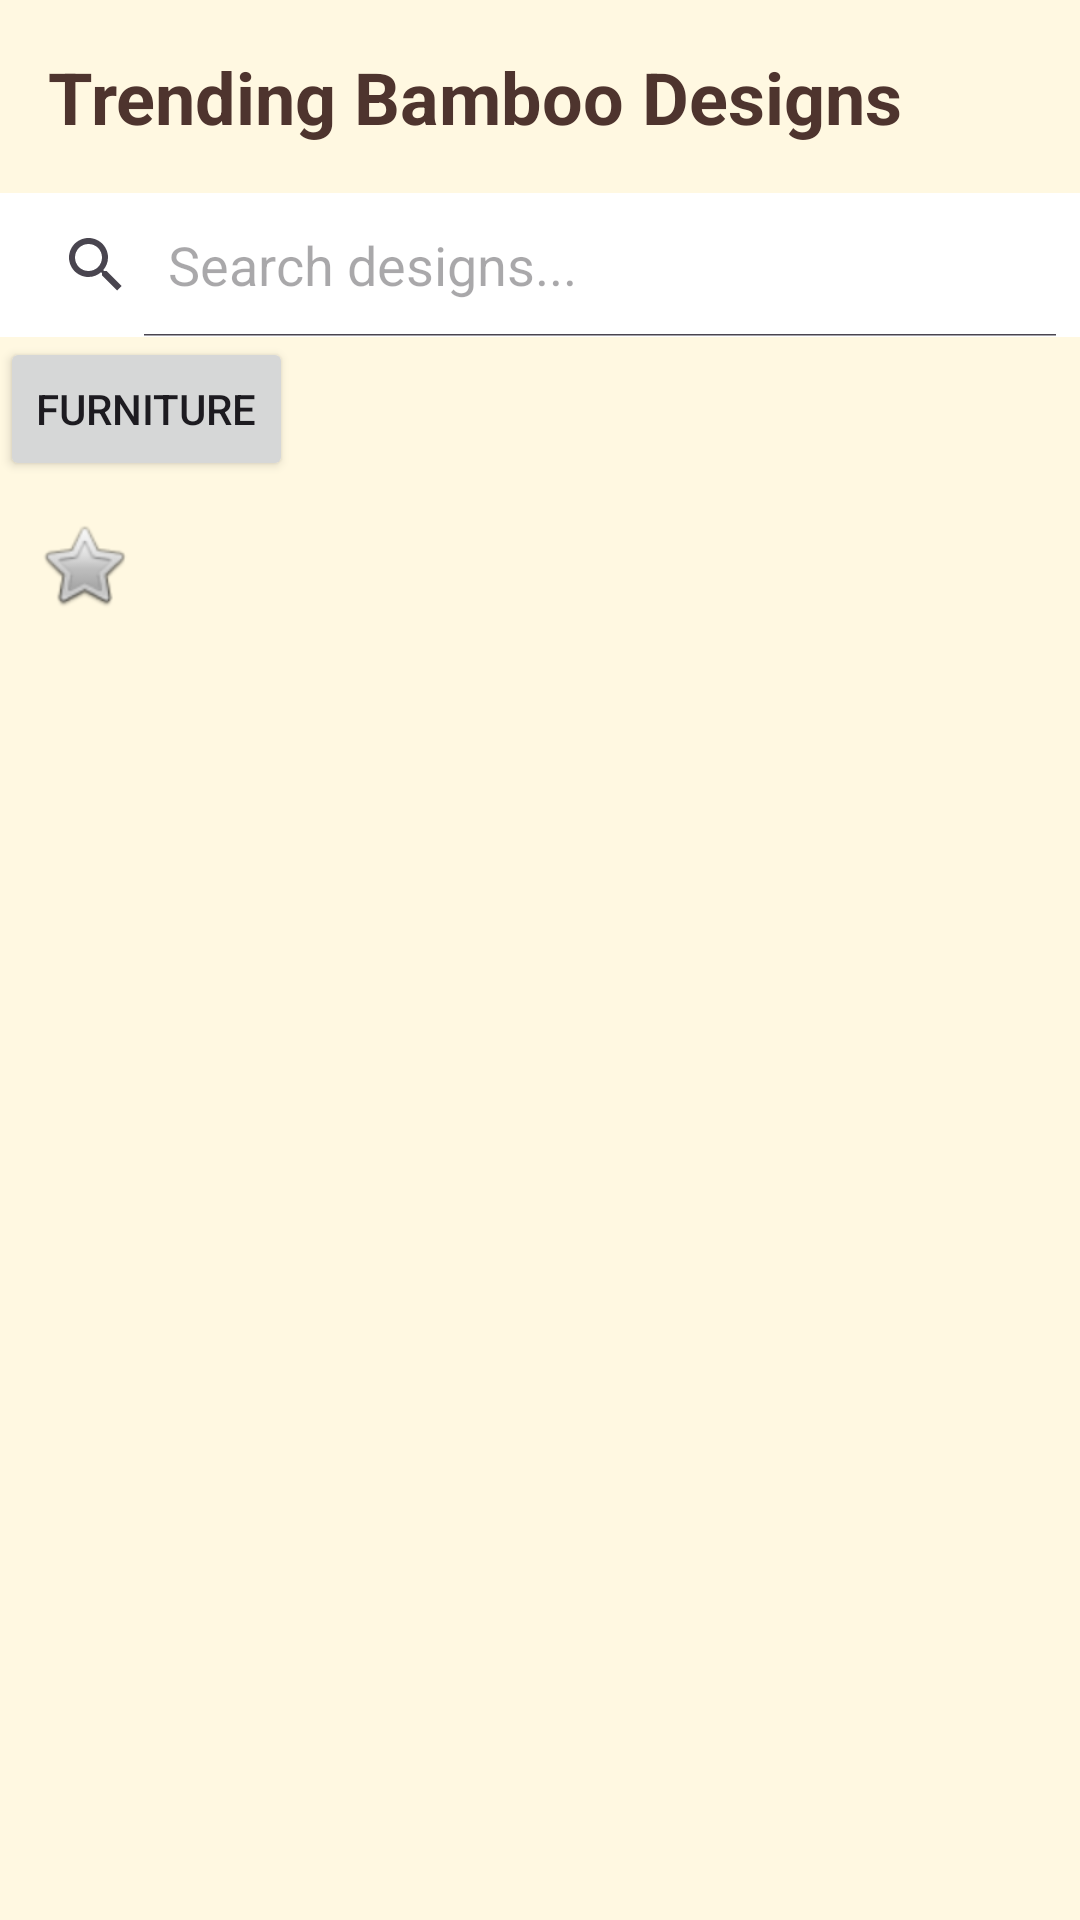

Named icons in this screenshot (1080 x 1920) and their bounding boxes, (x1, y1, x2, y2):
Favorite button: (45, 527, 125, 605)
